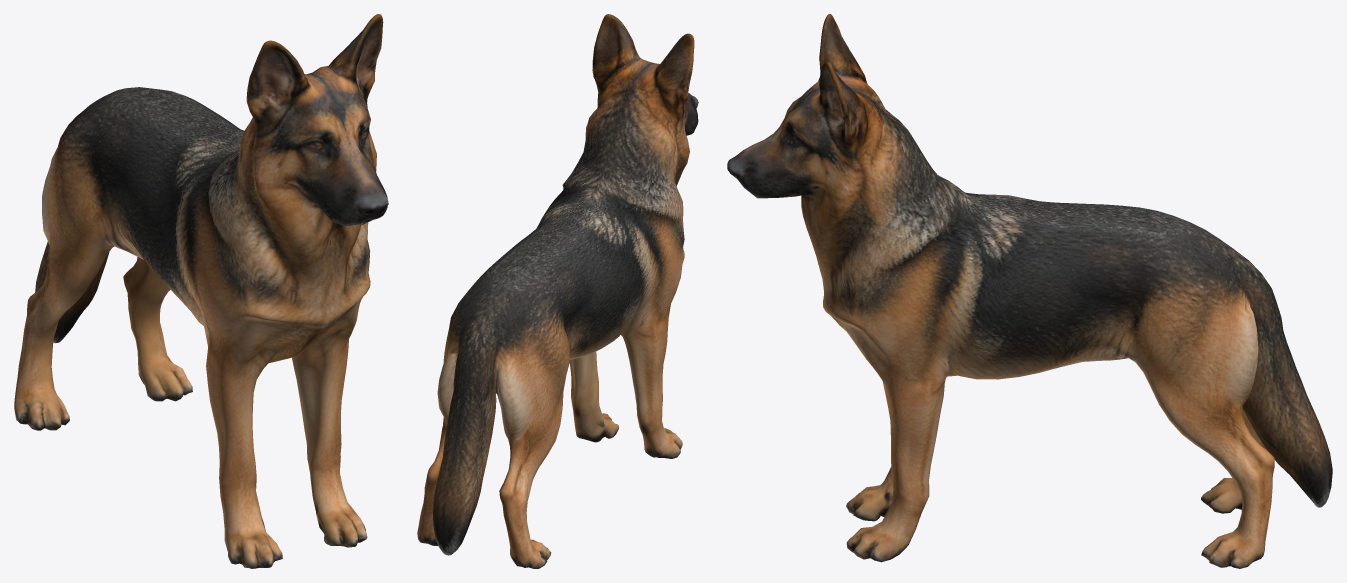
The model's file is 001_German_Shepherd_Static_Mesh.fbx.
3 views of the same model, side by side, from view 1: azimuth 30°, elevation 25°; view 2: azimuth 150°, elevation 25°; view 3: azimuth 270°, elevation 25° (orthographic). The views are drawn at different scales.
Parts seen in each view (by area): view 1: GermanShepherd; view 2: GermanShepherd; view 3: GermanShepherd.
Boxes of the visible parts, box(x1,y1,x2,y2) form: GermanShepherd: box(14, 14, 388, 568); GermanShepherd: box(417, 14, 698, 568); GermanShepherd: box(727, 14, 1332, 568).
Size of the model in its own units: 0.2841 by 0.8833 by 0.9779.
